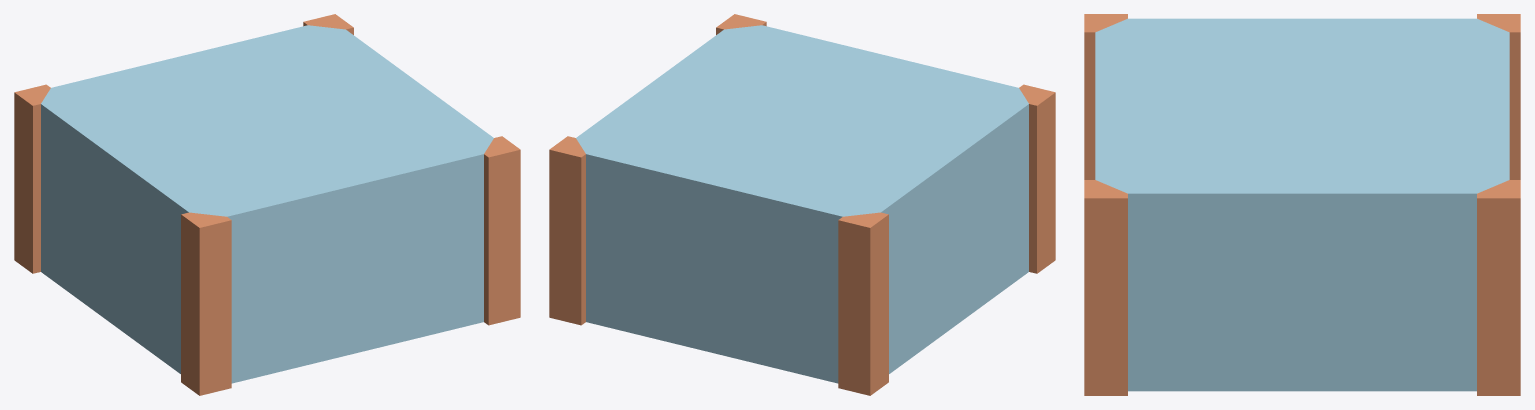
File: wallBlockHalf.fbx
3 views of the same model, side by side, from view 1: azimuth 30°, elevation 25°; view 2: azimuth 150°, elevation 25°; view 3: azimuth 270°, elevation 25° (orthographic). The views are drawn at different scales.
Parts seen in each view (by area): view 1: wallBlockHalf; view 2: wallBlockHalf; view 3: wallBlockHalf.
Part boxes in pixels (bbox=[...]): wallBlockHalf: bbox=[14, 14, 520, 395]; wallBlockHalf: bbox=[549, 14, 1055, 395]; wallBlockHalf: bbox=[1084, 14, 1520, 395].
Size of the model in its own units: 10 by 5 by 10.
